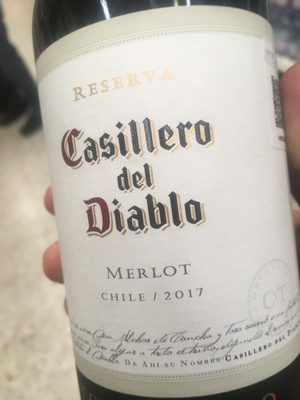casillero del diablo merlot: (29, 3, 299, 394)
